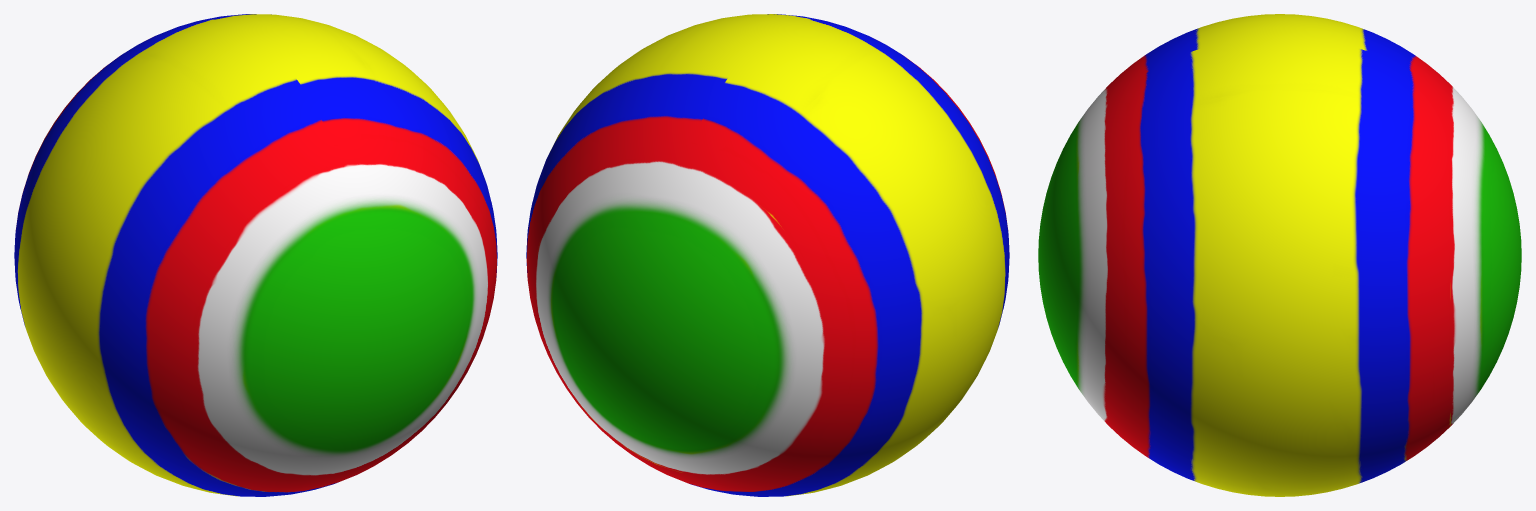
Rendered from Ball.fbx.
3 views of the same model, side by side, from view 1: azimuth 30°, elevation 25°; view 2: azimuth 150°, elevation 25°; view 3: azimuth 270°, elevation 25° (orthographic).
Parts seen in each view (by area): view 1: Sphere; view 2: Sphere; view 3: Sphere.
Boxes of the visible parts, x1,y1,x2,y2 form: Sphere: (14,14,497,496); Sphere: (526,14,1009,496); Sphere: (1038,14,1521,496).
Size of the model in its own units: 2 by 2 by 2.
1 material, 1 textured.
